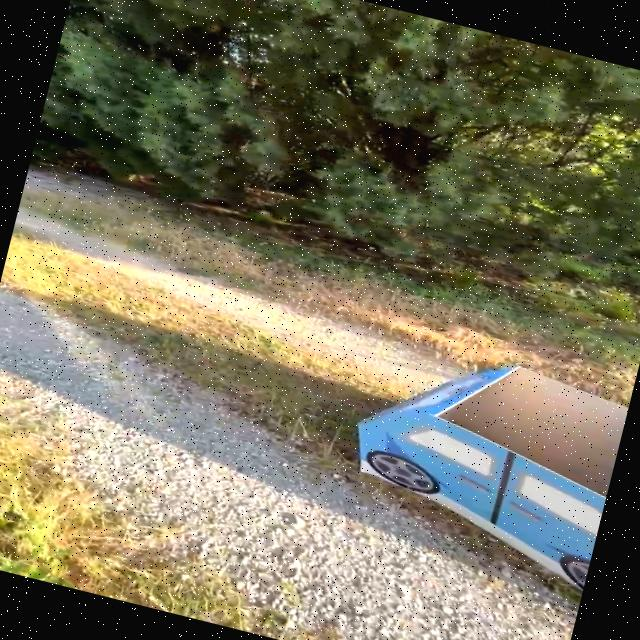blue_car: (244, 284, 638, 626)
